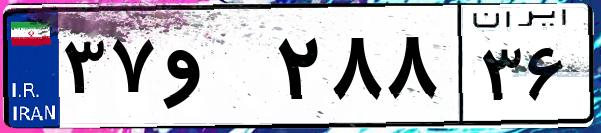2: (270, 28, 330, 110)
3: (57, 26, 110, 100), (475, 38, 525, 113)
6: (525, 38, 570, 115)
7: (110, 28, 158, 98)
8: (385, 28, 445, 110), (330, 28, 385, 110)
و: (158, 20, 270, 120)
